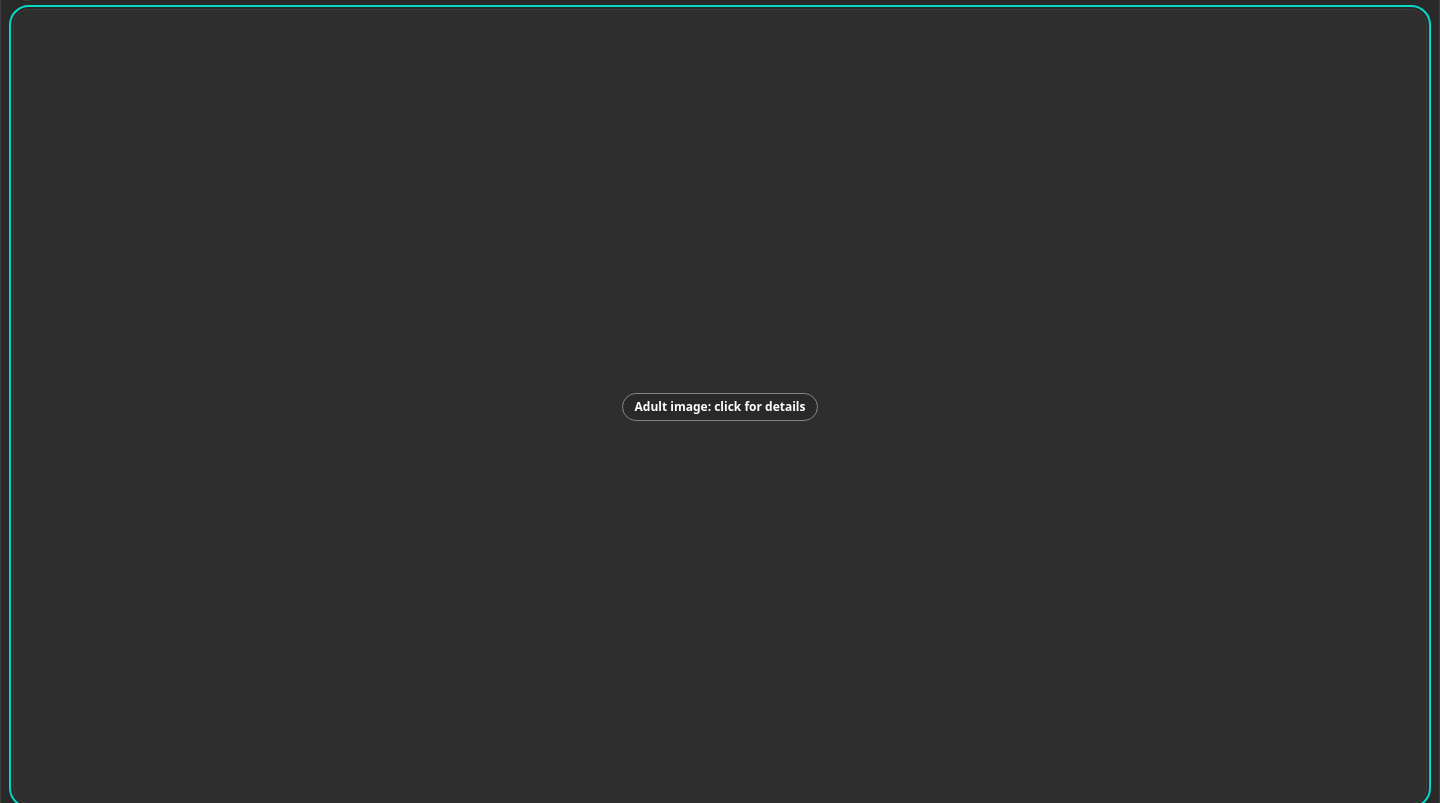
the frame opens the dialog from the keyboard ({Enter})
The image size is (1440, 803).
(page scrolled)
Press Enter
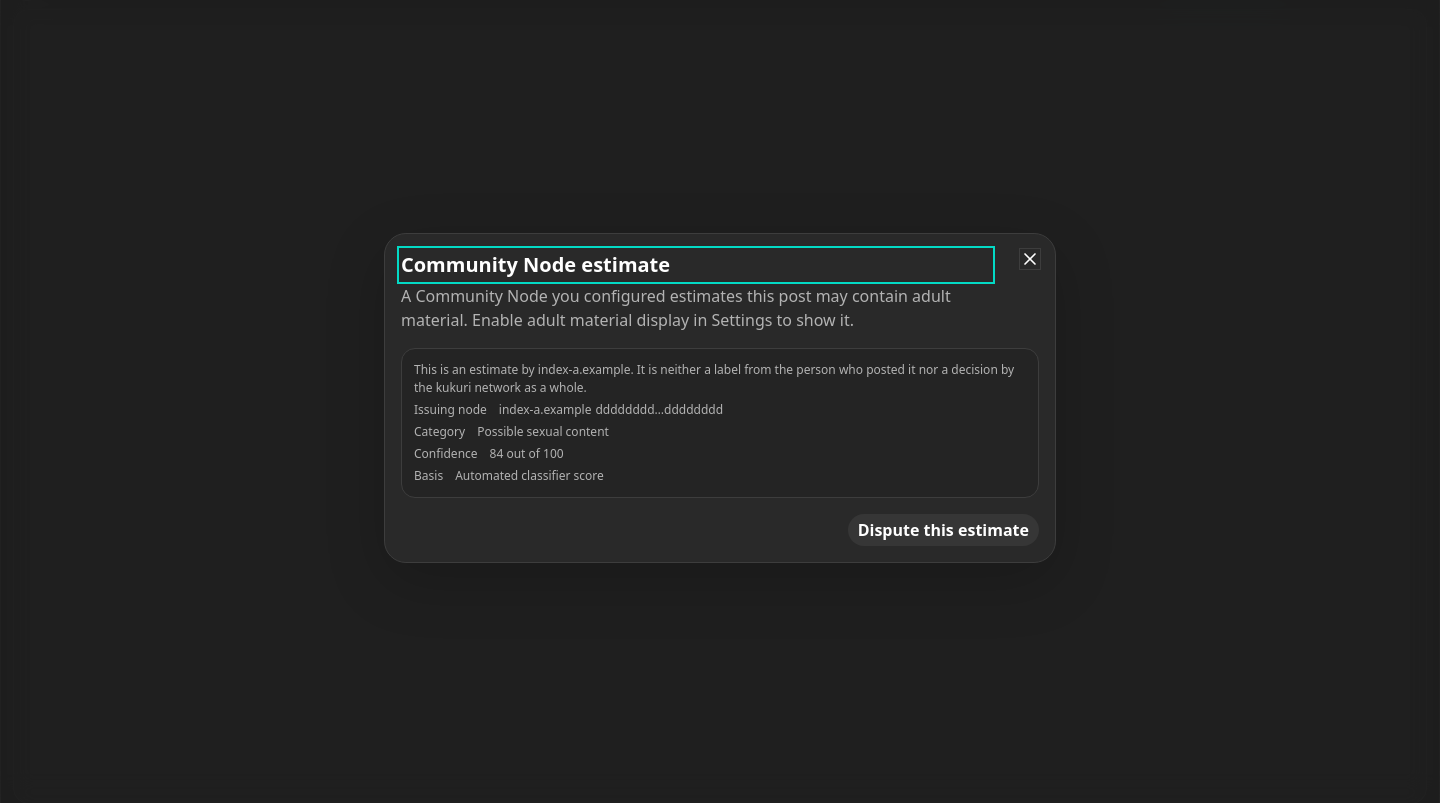
Press Enter
Click the button named "Close dialog" at (1030, 259), box [1019, 248, 1041, 270]
(page scrolled)
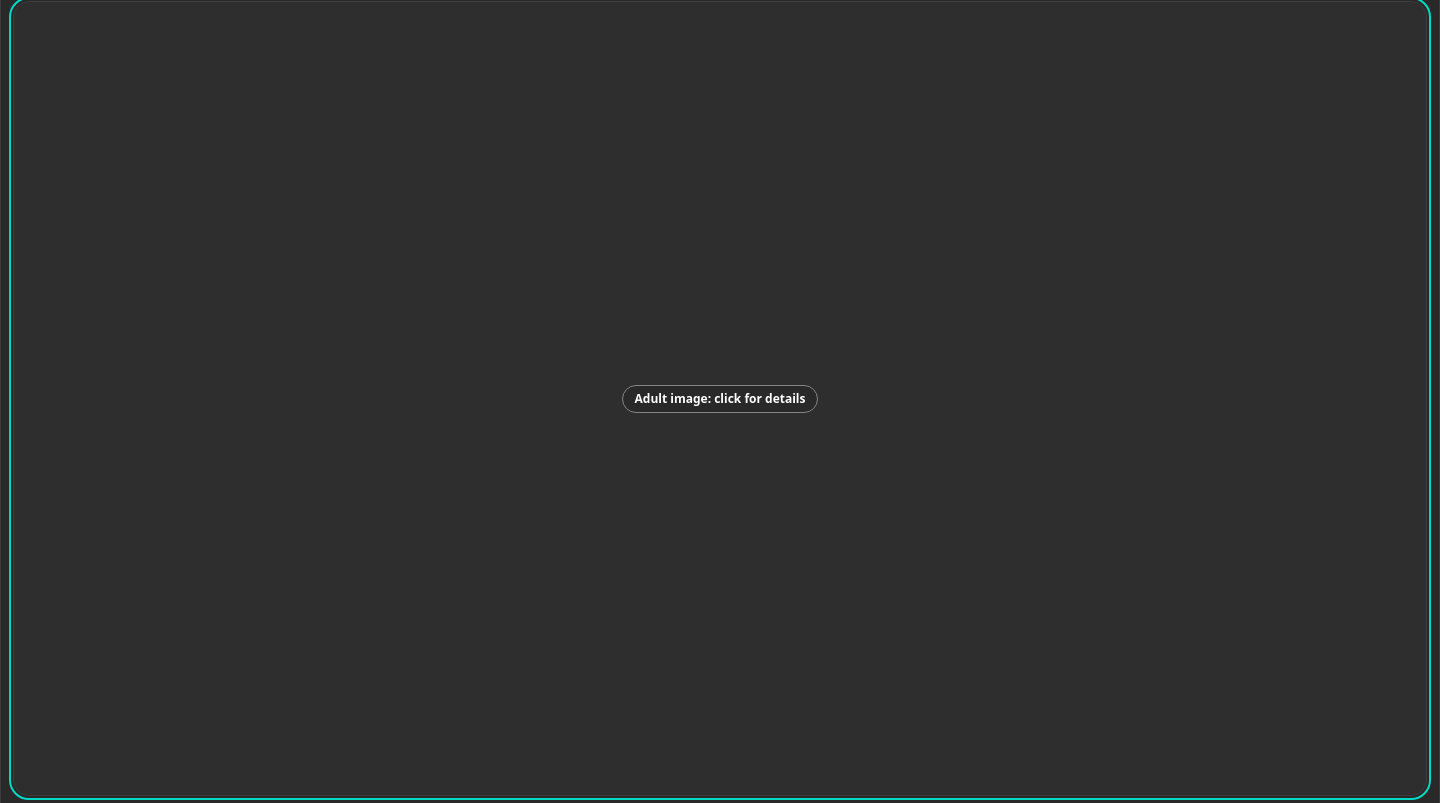
Expected: the dialog is gone
